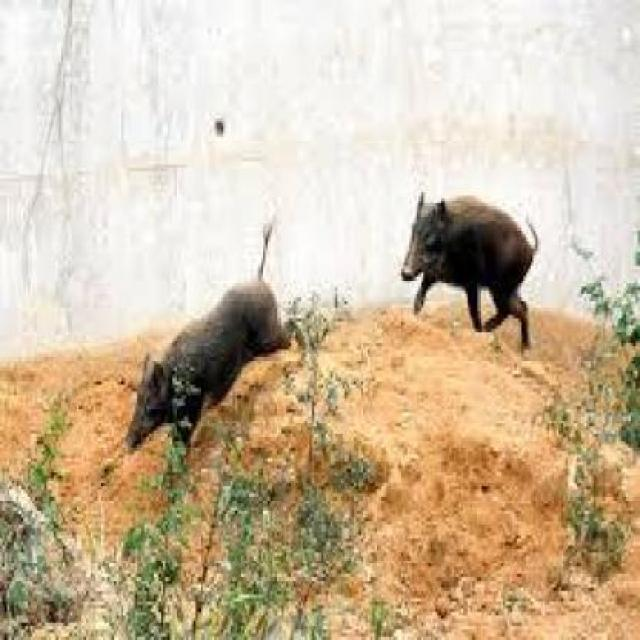wildboar: (122, 212, 310, 470), (398, 192, 542, 357)
